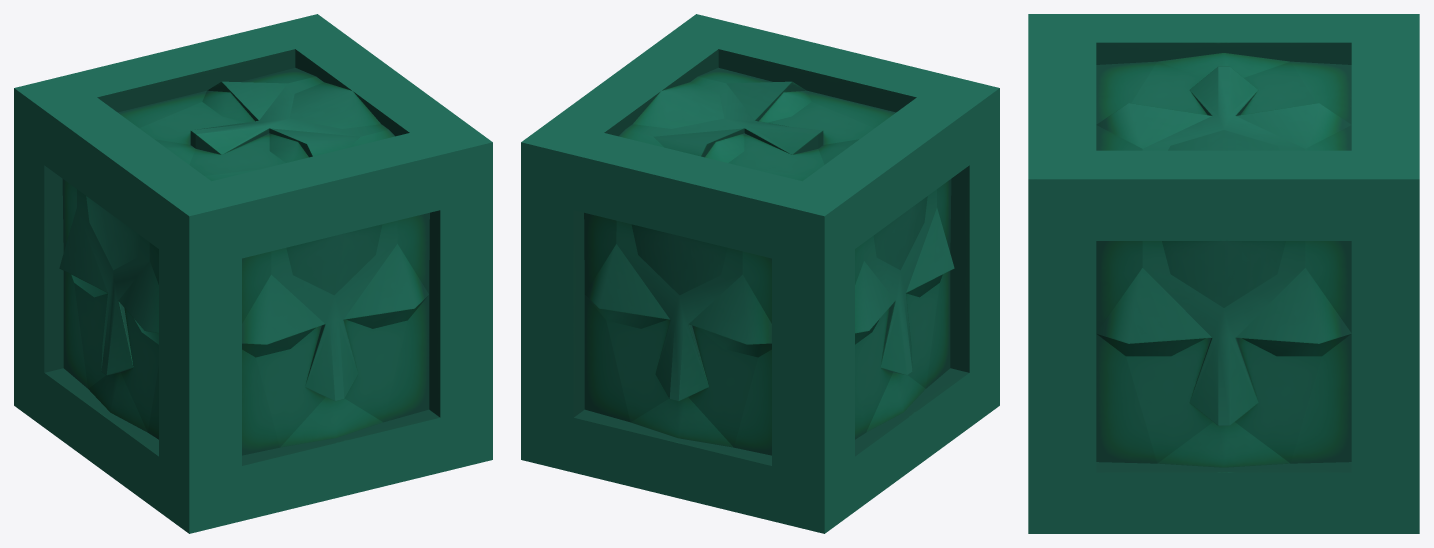
3 renders of one model, left to right at view 1: azimuth 30°, elevation 25°; view 2: azimuth 150°, elevation 25°; view 3: azimuth 270°, elevation 25°, orthographic. The views are drawn at different scales.
Parts seen in each view (by area): view 1: cube05_geo; view 2: cube05_geo; view 3: cube05_geo.
Part boxes in pixels (<box>): cube05_geo: <box>14,14,492,533</box>; cube05_geo: <box>521,14,999,533</box>; cube05_geo: <box>1028,14,1419,533</box>.
Size of the model in its own units: 100 by 100 by 100.
1 material, 1 textured.
